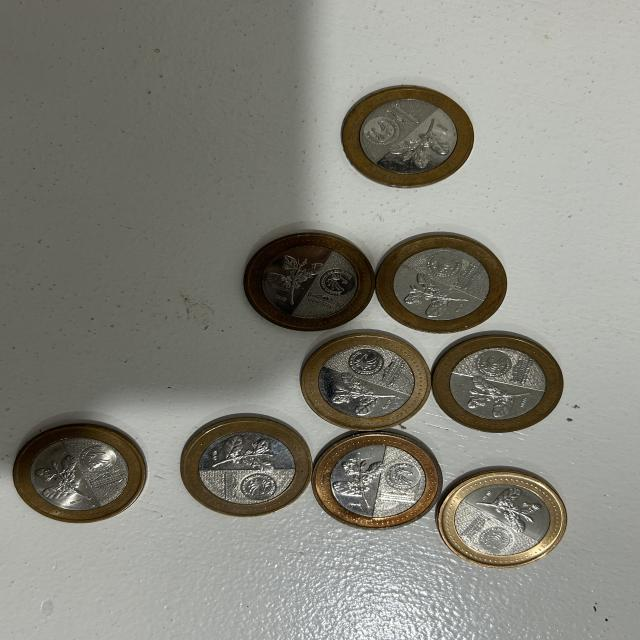20_New_Back: (35, 454, 97, 506), (390, 117, 448, 170), (264, 254, 322, 306), (462, 378, 533, 418), (406, 274, 468, 318), (477, 489, 540, 532), (334, 374, 398, 416), (208, 434, 275, 471), (333, 458, 380, 508)
